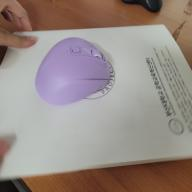mouse: (32, 30, 113, 106)
